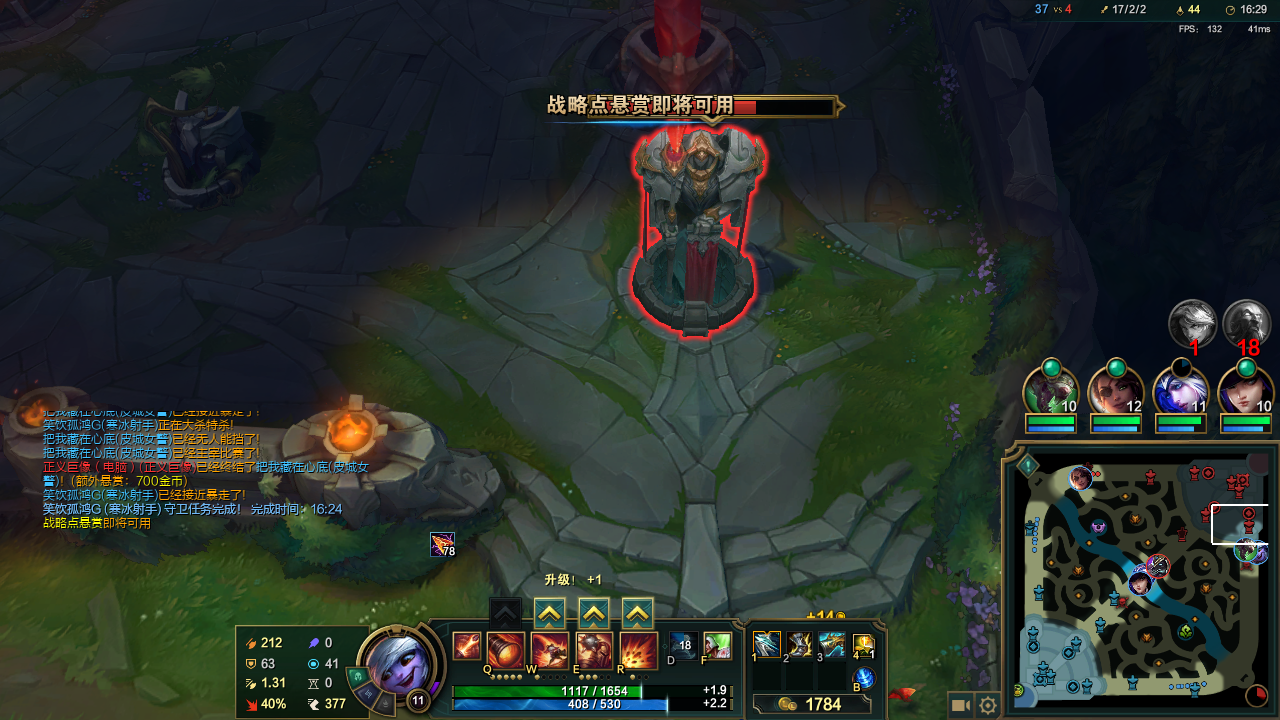DFFYT: (627, 126, 783, 360)
